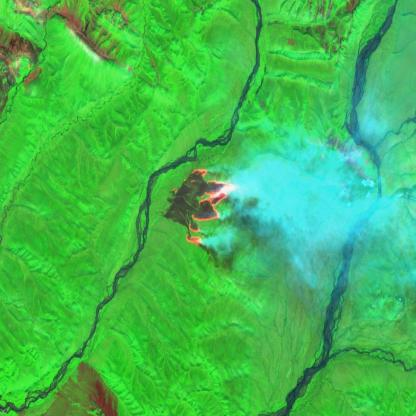fire: (164, 159, 242, 251)
